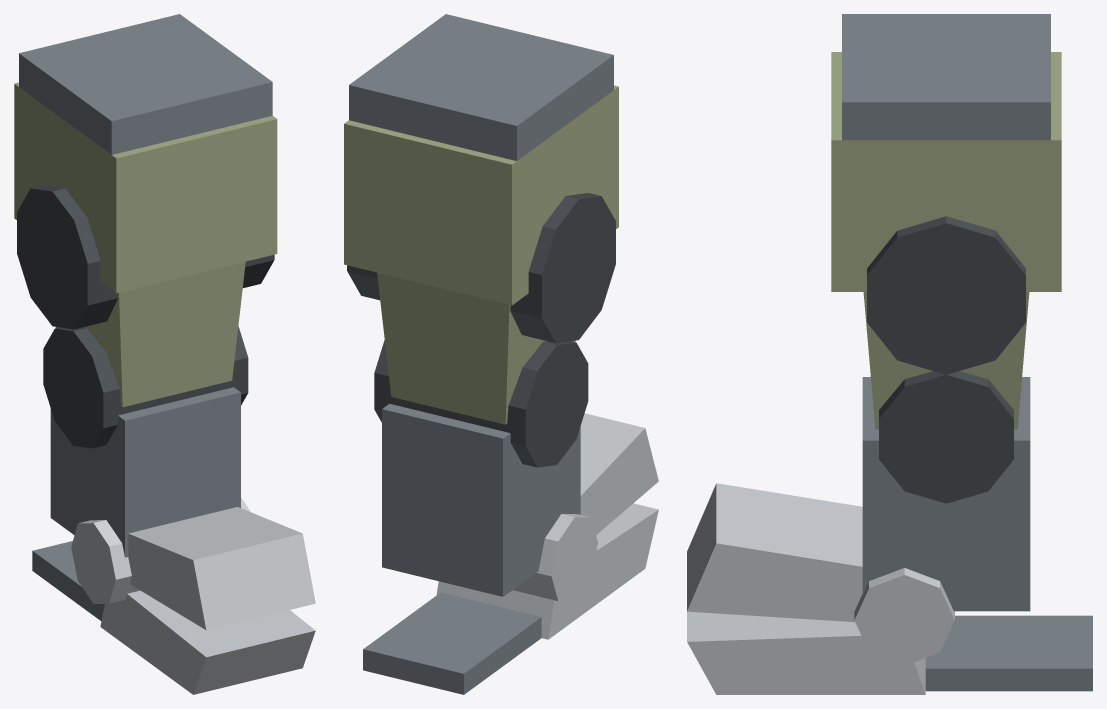
The model's file is mech-hangar-and-battle-frames-claw-arm-9e73dd09__26863.glb.
The picture shows the model from 3 angles, left to right: view 1: azimuth 30°, elevation 25°; view 2: azimuth 150°, elevation 25°; view 3: azimuth 270°, elevation 25°; orthographic projection. The views are drawn at different scales.
Visible parts, largest first — view 1: claw-arm, elbow (×3); view 2: claw-arm, elbow (×3); view 3: elbow (×3), claw-arm.
Boxes of the visible parts, left/top/right/bottom form: claw-arm: left=14, top=14, right=277, bottom=407; elbow (×3): left=32, top=326, right=315, bottom=694; claw-arm: left=344, top=14, right=618, bottom=424; elbow (×3): left=363, top=340, right=658, bottom=694; elbow (×3): left=687, top=371, right=1092, bottom=694; claw-arm: left=831, top=14, right=1061, bottom=429.
Size of the model in its own units: 0.58 by 1.6 by 0.97.
